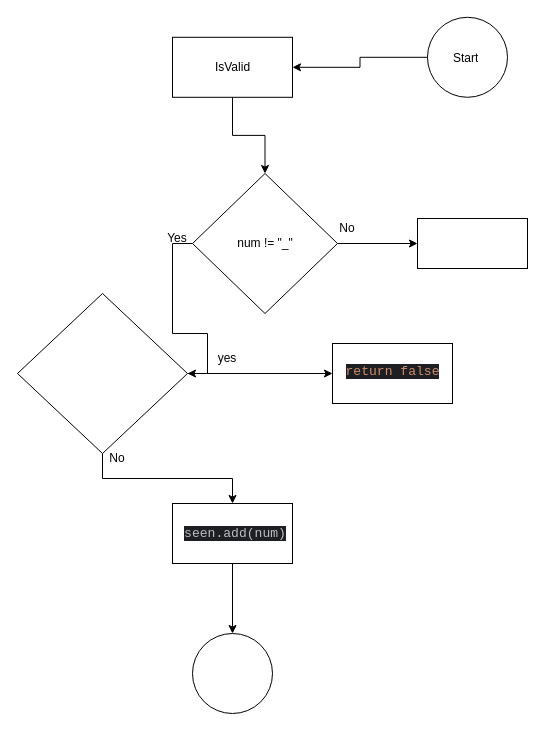
Some shapes in this 545 by 732 pixel diagram are drawn without their labels. Here are the shapes that lost their labels. From the top down, the centre of each, then its label:
At point 472,243: "Pass".
At point 102,373: "seen.contains(num)".
At point 232,673: "End".
